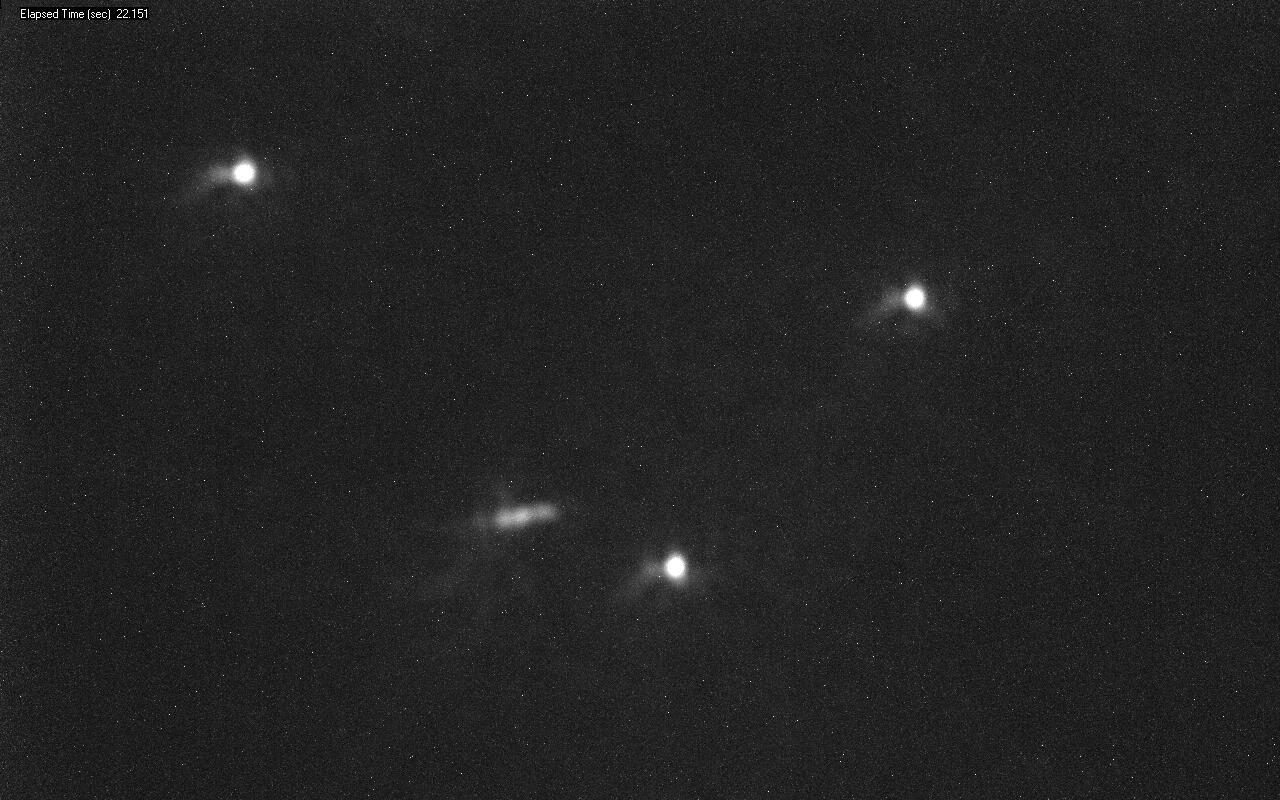Bead: (891, 284, 927, 315), (662, 550, 688, 584), (231, 160, 257, 187)
